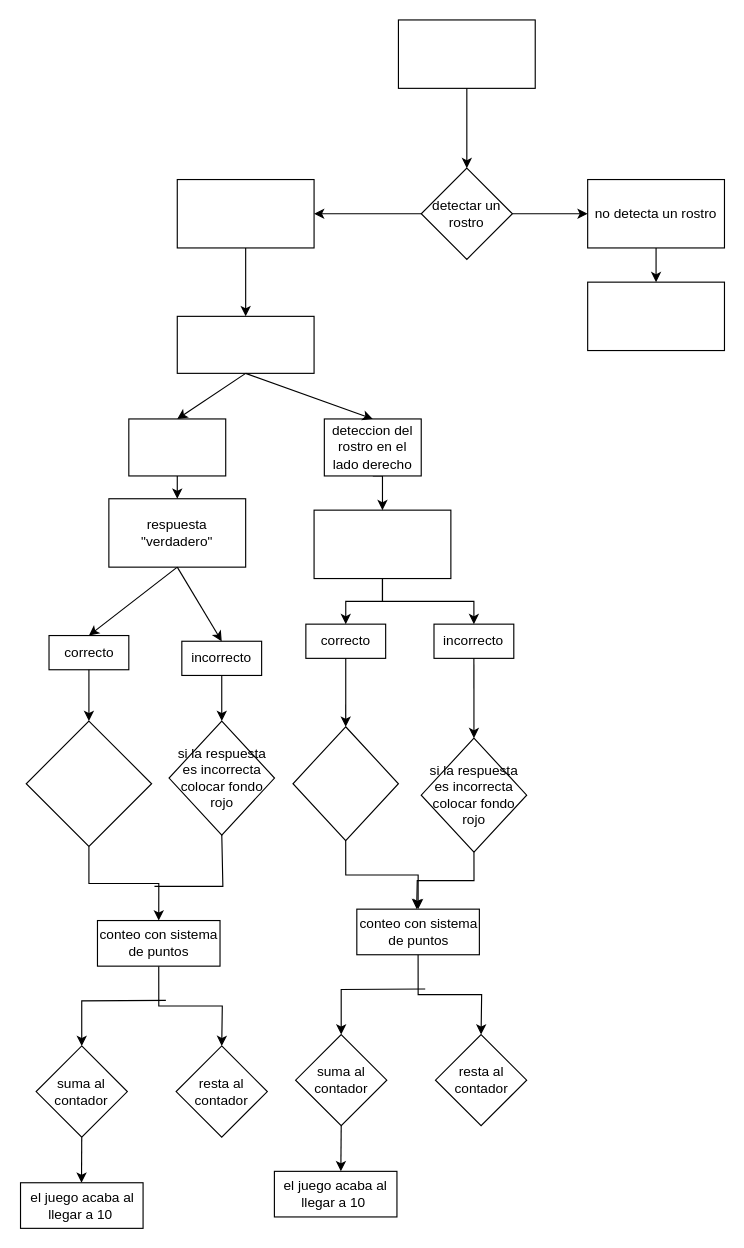
The diagram is 744 pixels wide and 1248 high, and some of its shapes have lost their labels. Here are the shapes that lost their labels. From the top down, the centre of each, then its label:
[466,53]: preguntas falso o verdadero
[245,213]: detectó un rostro
[655,316]: texto "quien quiere ser millonario"
[245,344]: creacion de pregunta al azar
[177,447]: deteccion del rostro en el lado izquierdo
[382,544]: respuesta "falso"
[88,783]: si la respuesta es "falso "colocar fondo verde
[345,783]: si la respuesta es correcta colocar fondo verde
